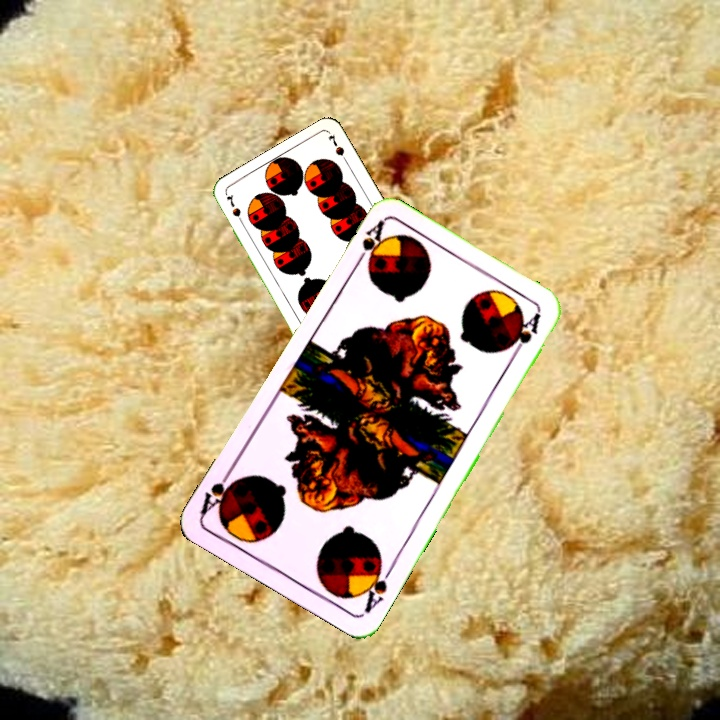S7: (222, 190, 247, 229)
SA: (356, 556, 396, 616), (350, 217, 386, 271)
